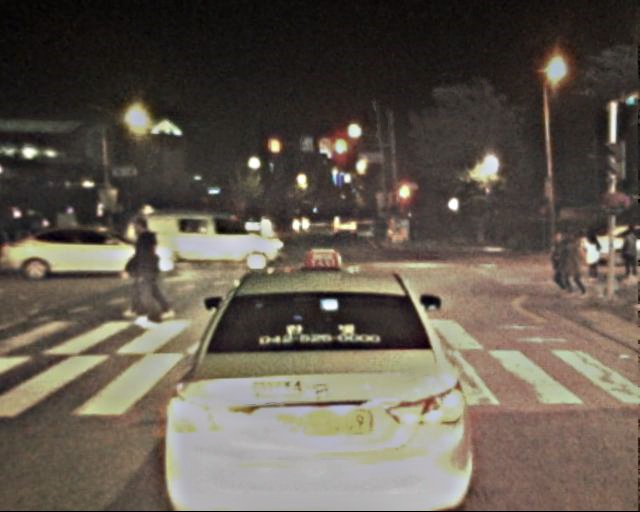person: (120, 212, 166, 324), (561, 227, 590, 297), (548, 231, 574, 294), (579, 225, 602, 282), (617, 225, 640, 282)
